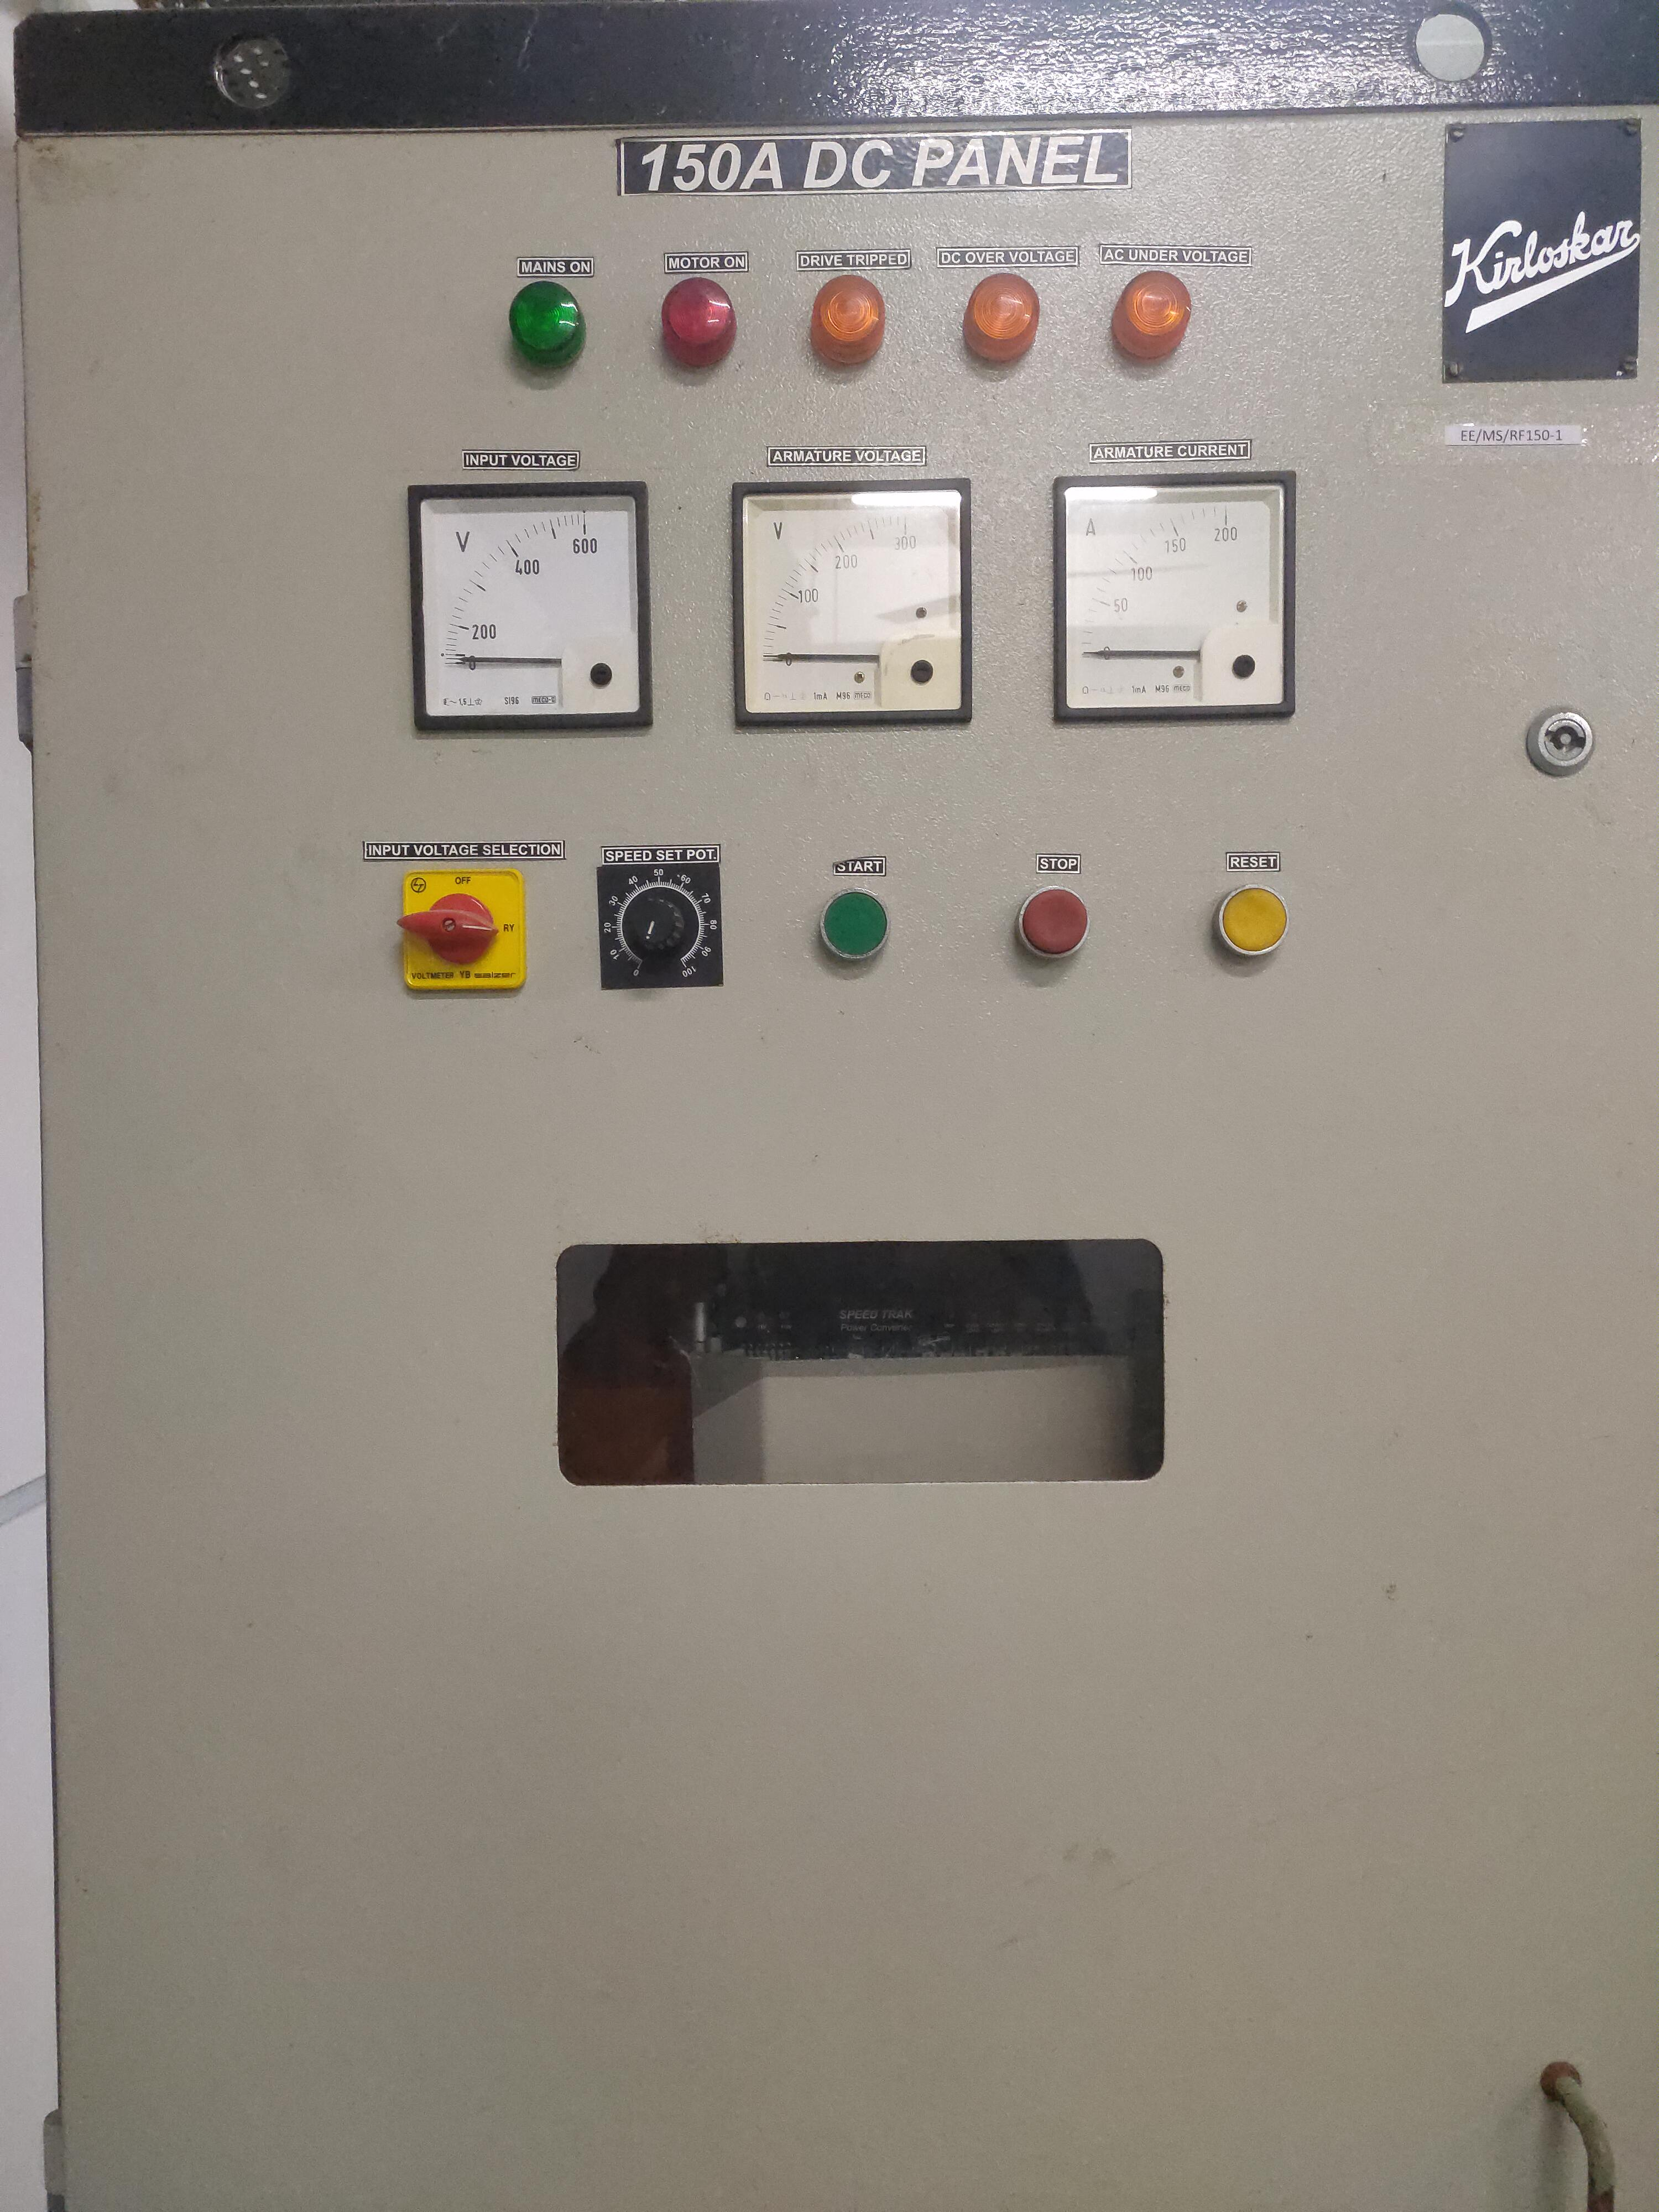Light Indications: (481, 207, 1222, 427)
